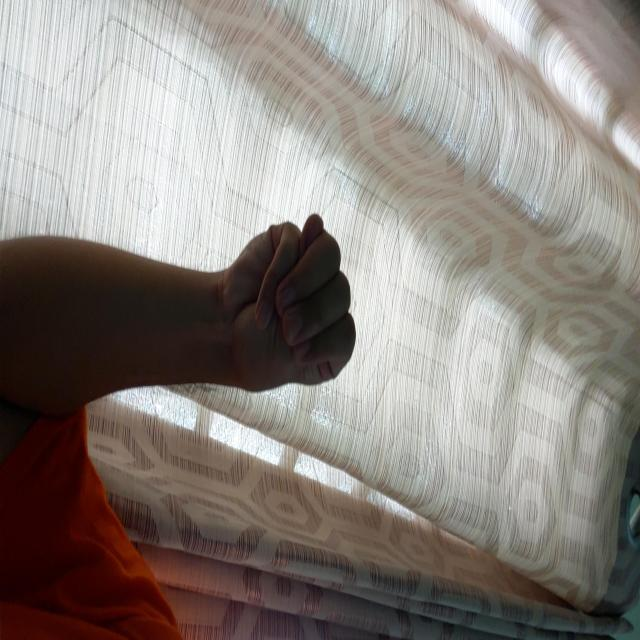M: (211, 283, 397, 415)
